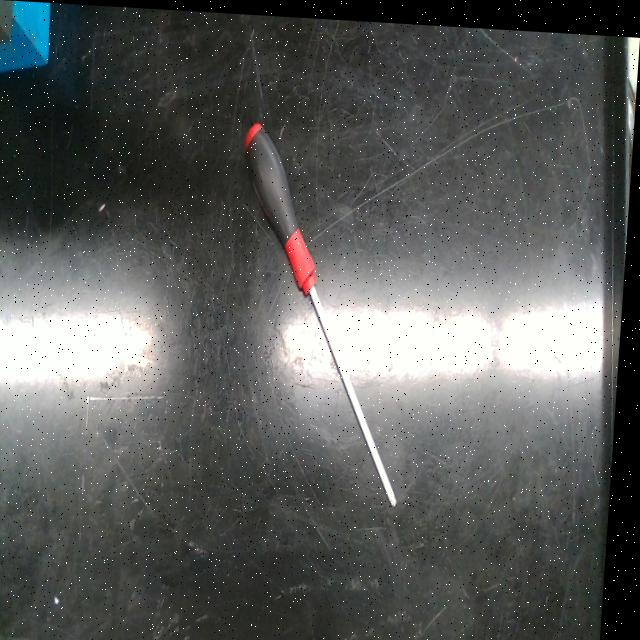Screwdriver: (247, 121, 404, 502)
